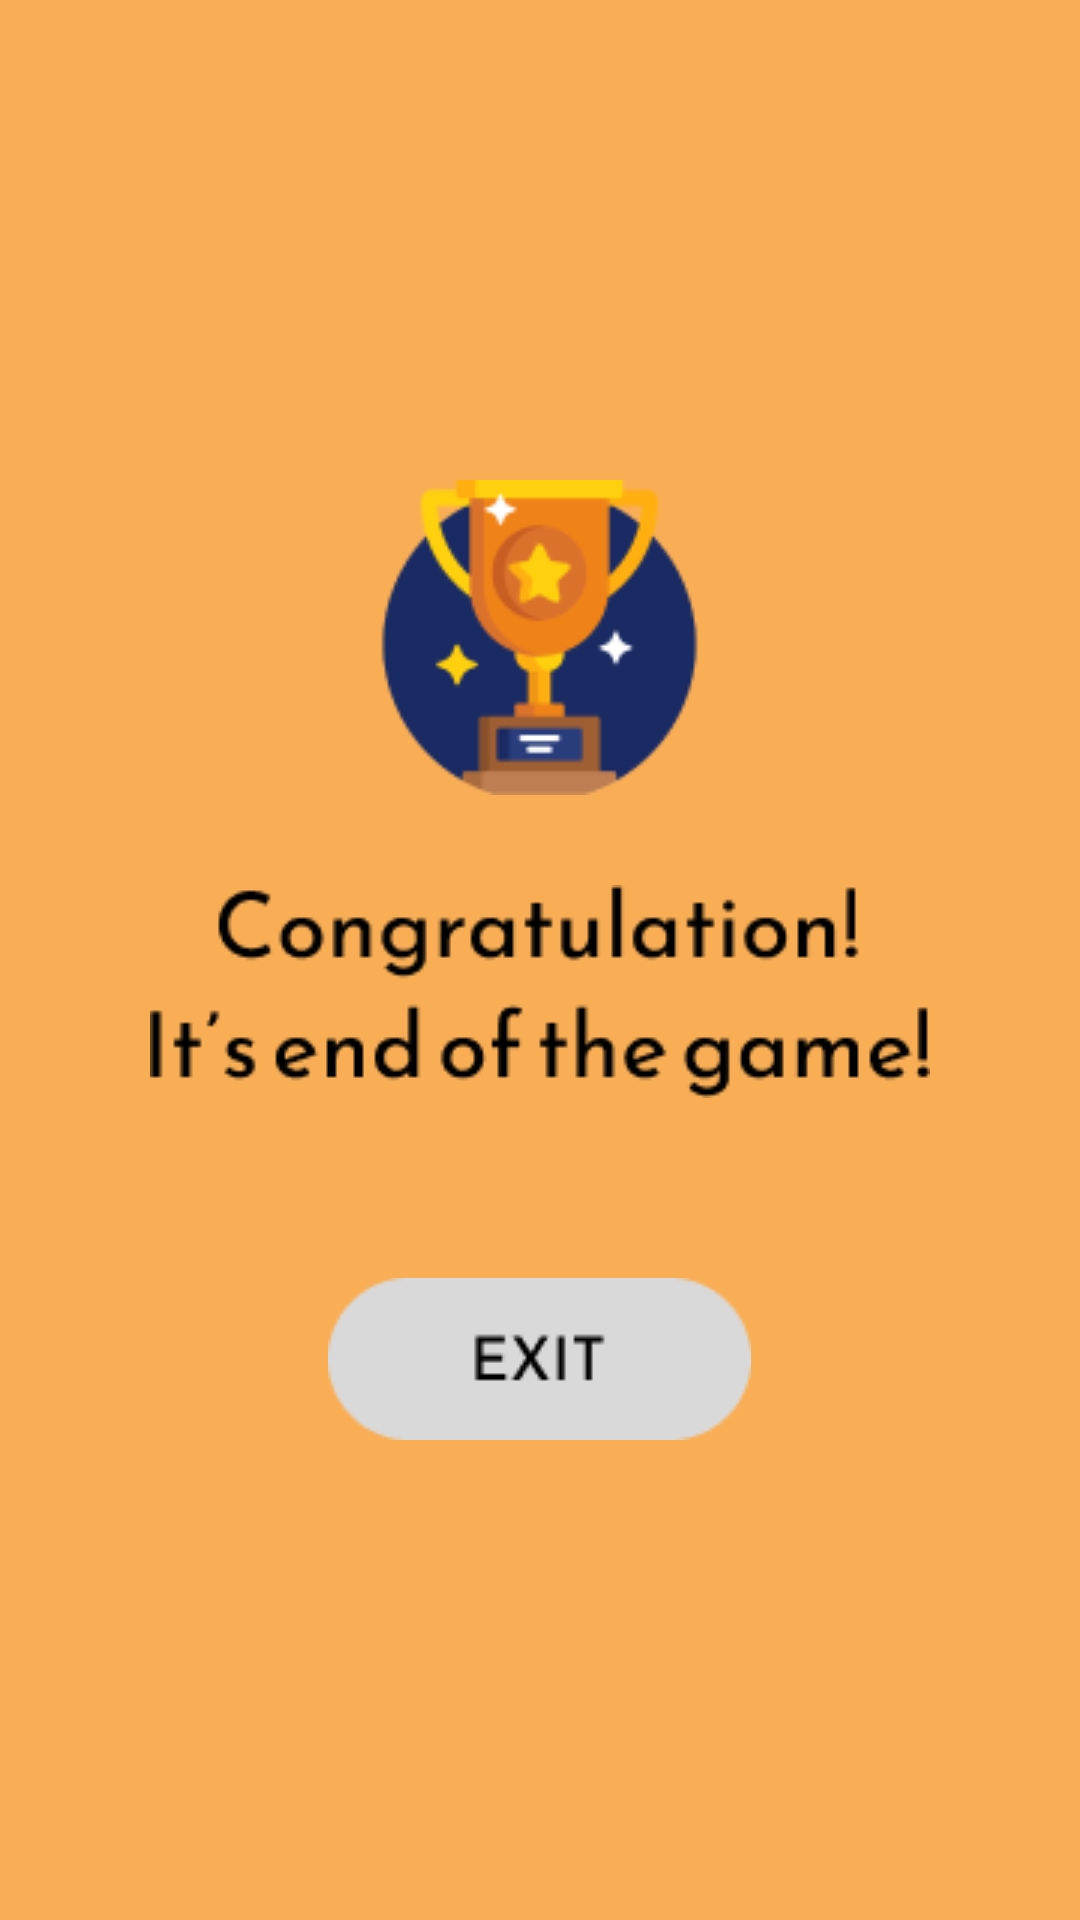

Screen size 1080*1920. Icon name, then its box in pixels as region(x1, y1, x2, y2):
trophy: region(381, 480, 698, 795)
